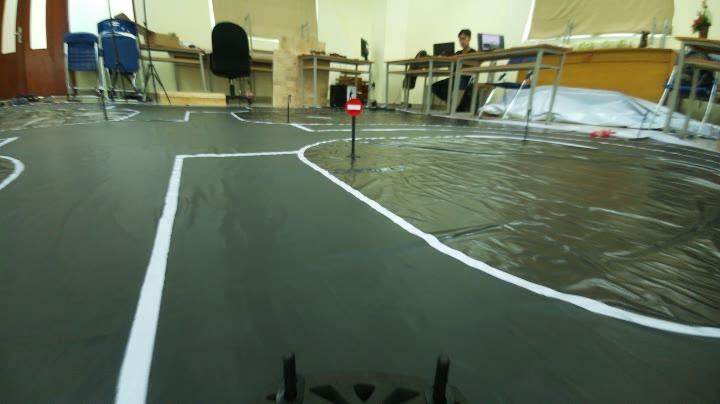no_entry: (338, 95, 369, 118)
